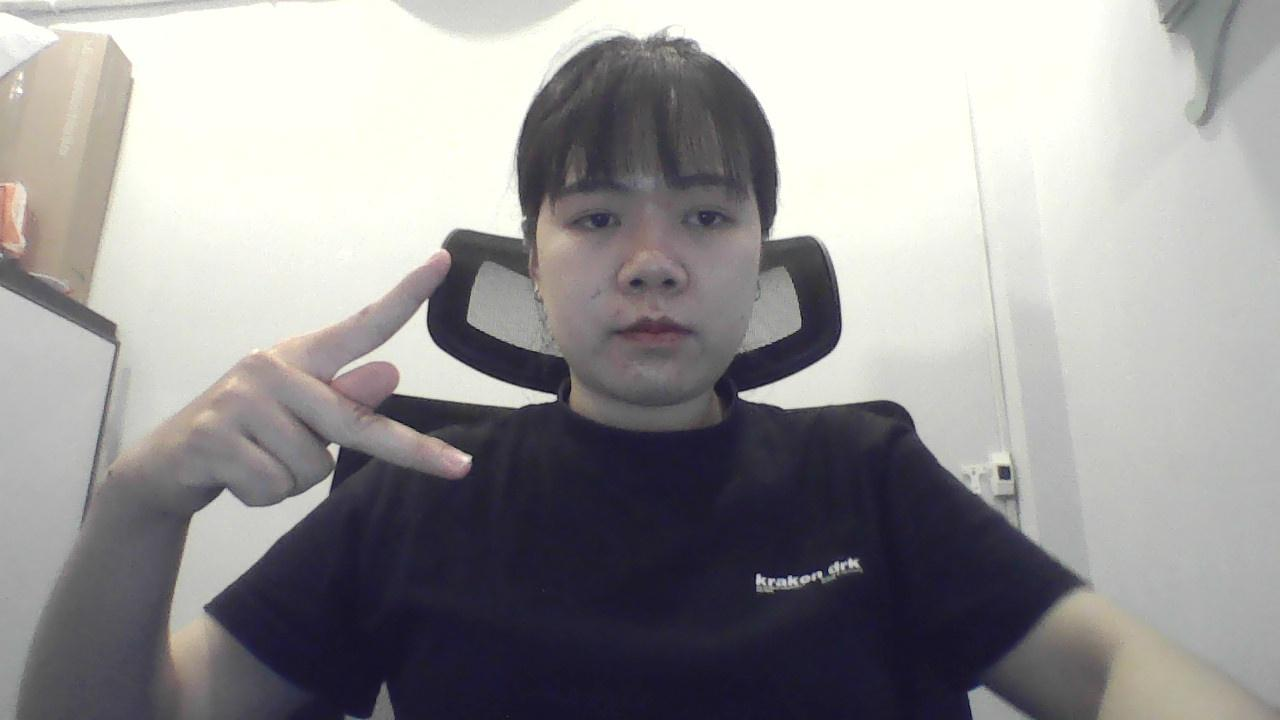P: (145, 242, 484, 512)
